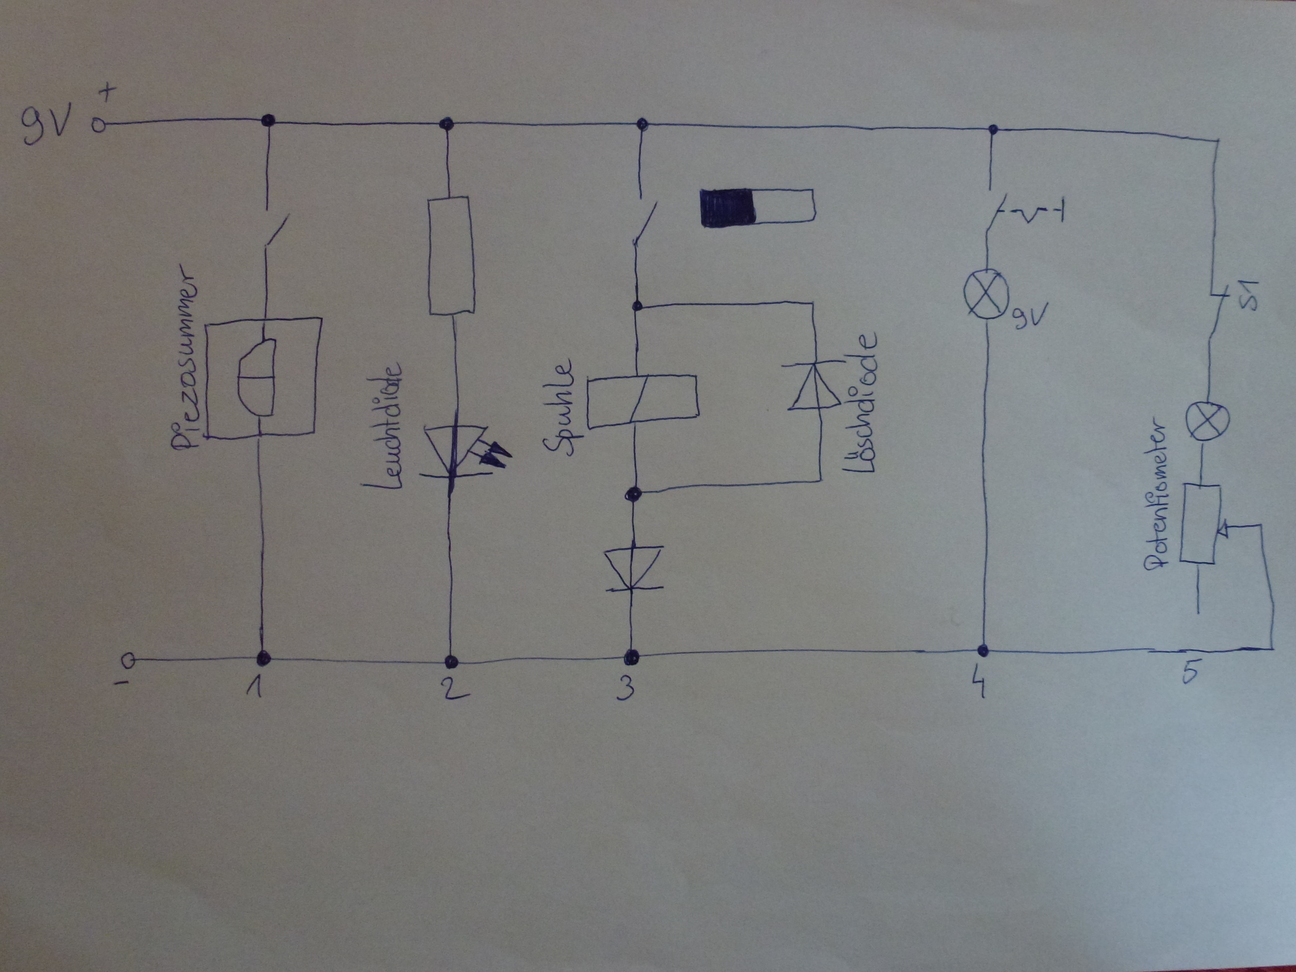diode: (778, 358, 848, 412), (601, 542, 669, 597)
diode.light_emitting: (418, 418, 518, 481)
inductor: (584, 371, 701, 433)
junction: (619, 642, 645, 668), (622, 482, 647, 507), (435, 113, 459, 135), (632, 112, 653, 134), (257, 110, 279, 131), (253, 647, 273, 669), (442, 651, 461, 673), (629, 297, 649, 317), (985, 120, 1002, 138), (974, 642, 992, 658), (1209, 134, 1225, 150), (1253, 518, 1266, 533), (1265, 641, 1279, 657), (806, 295, 819, 309), (814, 474, 825, 485)
lamp: (961, 265, 1010, 321), (1183, 399, 1233, 445)
resistor: (420, 190, 480, 325)
resistor.adjustable: (1176, 476, 1231, 568)
speaker: (202, 313, 325, 443)
switch: (981, 188, 1068, 232), (1192, 281, 1232, 347), (625, 194, 667, 254), (255, 204, 293, 252)
terminal: (116, 649, 141, 674), (89, 113, 111, 135)
text: (356, 357, 409, 493), (167, 259, 201, 451), (840, 327, 880, 474), (1140, 414, 1173, 575), (541, 354, 586, 459), (16, 98, 74, 151), (1011, 299, 1051, 332), (438, 671, 471, 704), (1177, 653, 1206, 689), (1236, 277, 1261, 313), (613, 669, 638, 703), (242, 671, 268, 701), (970, 665, 989, 701)
